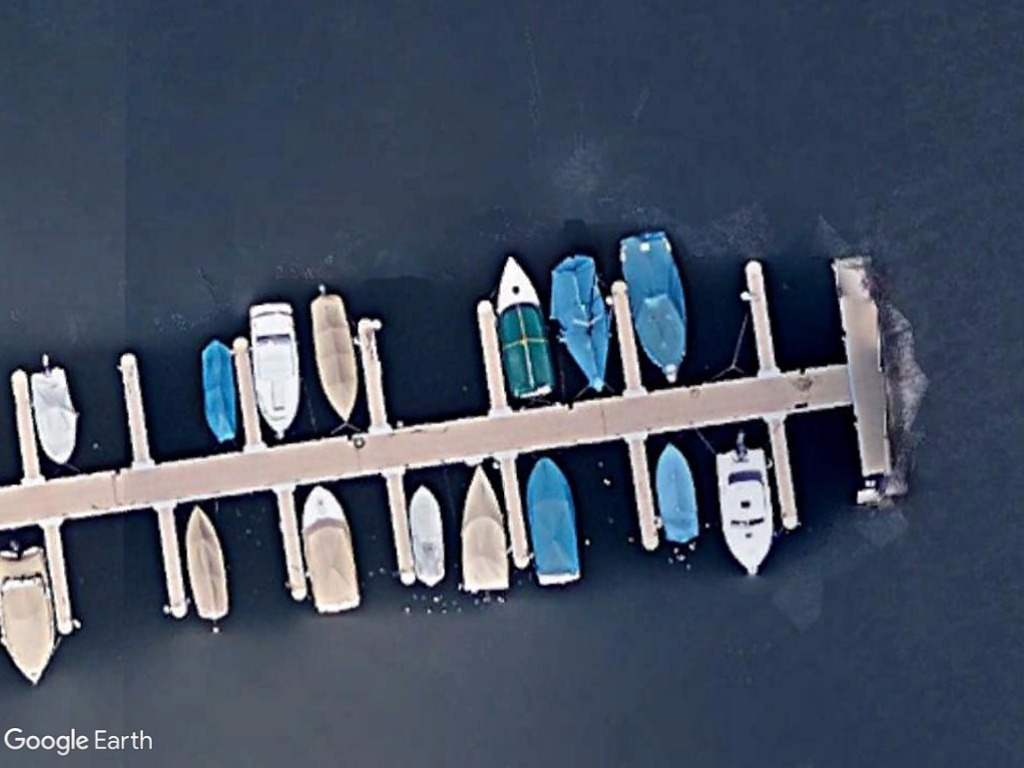boat: (616, 225, 692, 383), (547, 251, 619, 396), (494, 245, 560, 403), (706, 440, 780, 574), (293, 483, 366, 616), (522, 453, 586, 594), (0, 539, 58, 689), (453, 463, 516, 599), (307, 286, 364, 434), (243, 297, 301, 433), (181, 503, 234, 626), (650, 439, 703, 549), (30, 363, 82, 469), (194, 334, 241, 446), (404, 480, 449, 592)
